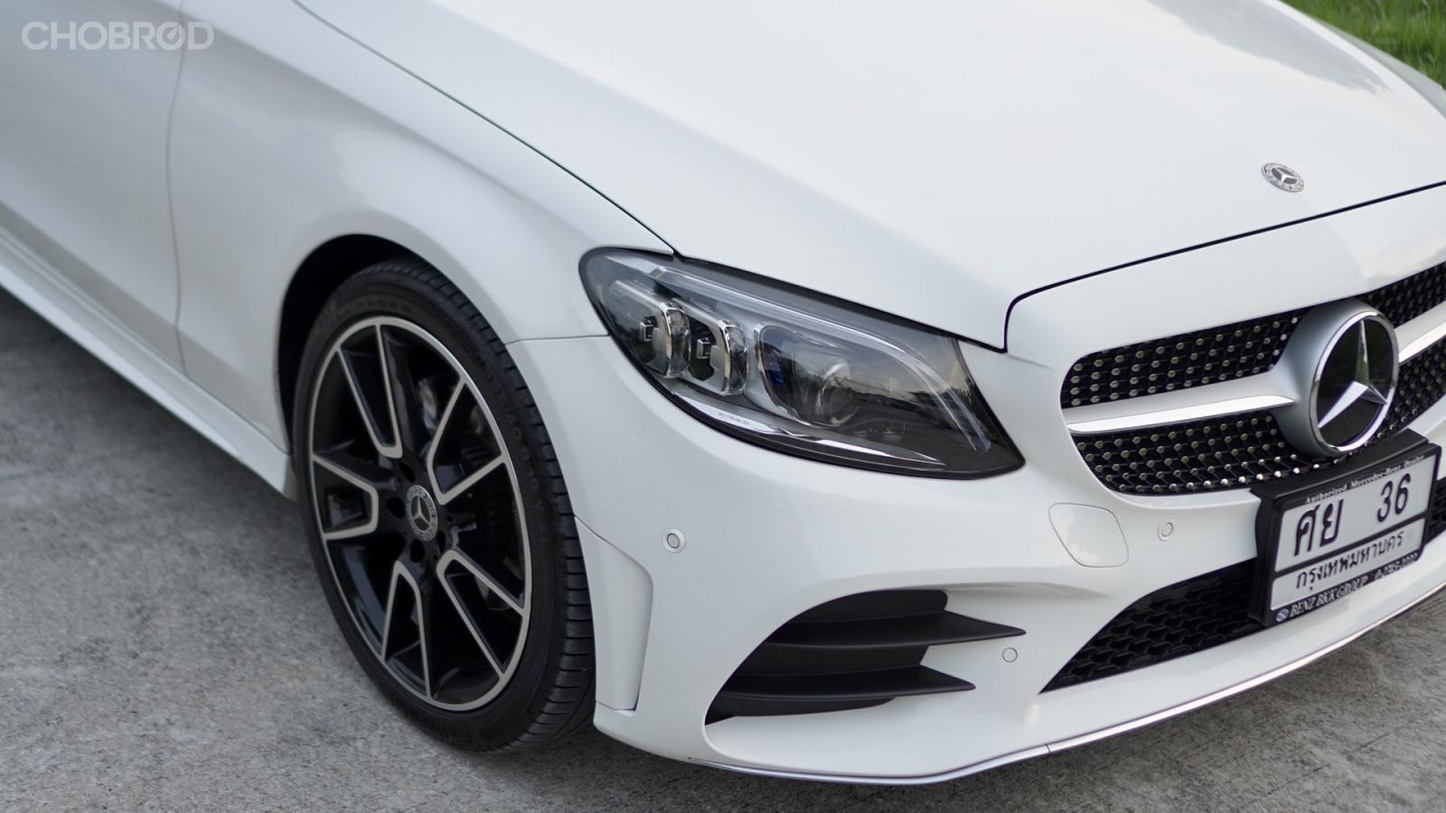license-plate: (1245, 430, 1446, 630)
